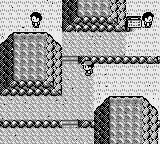leer: (127, 16, 141, 31)
main: (81, 60, 94, 75)
no-caminable: (1, 33, 62, 96), (94, 97, 157, 143), (62, 0, 126, 32)
npc: (142, 12, 154, 28), (30, 12, 42, 27)
salto: (79, 56, 160, 63), (1, 120, 60, 127), (79, 121, 93, 127)
